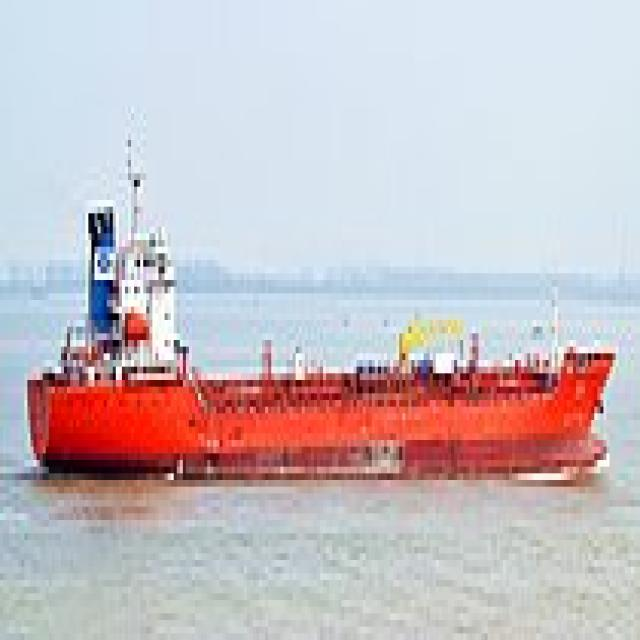Tanker: (21, 127, 622, 480)
